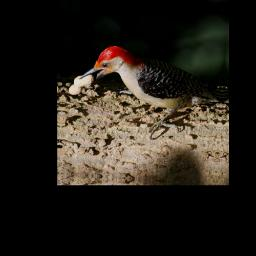Woodpecker: (76, 43, 224, 148)
